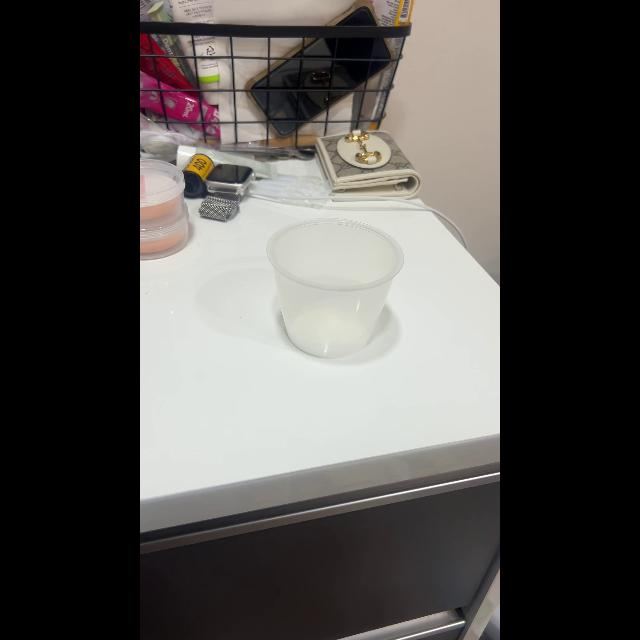clean: (274, 214, 404, 360)
